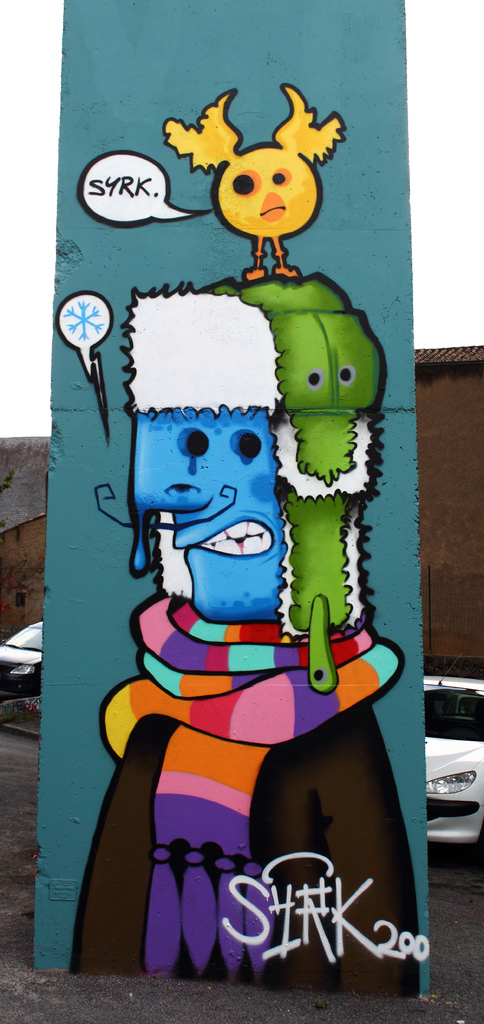Car: (421, 679, 483, 849), (0, 618, 43, 700)
